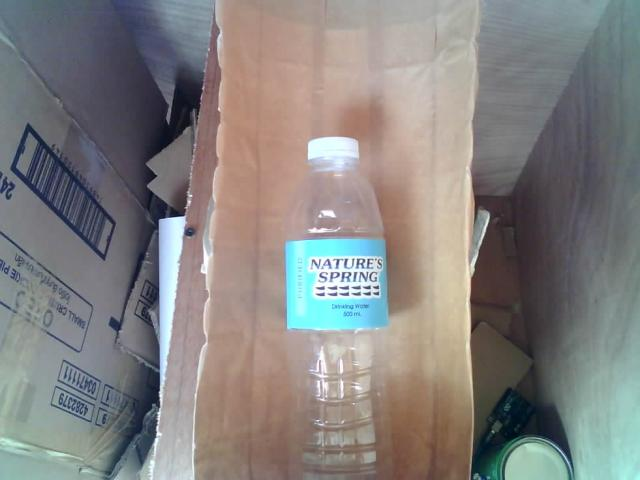small_bottle: (256, 127, 421, 480)
